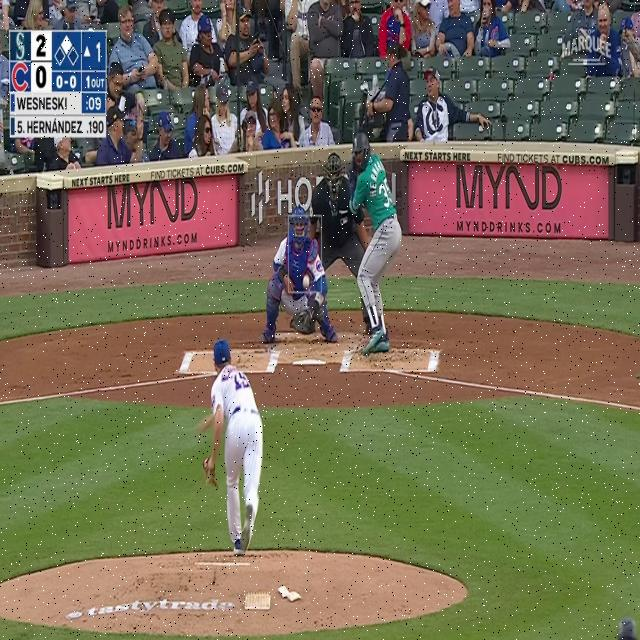baseball: (302, 275, 310, 288)
